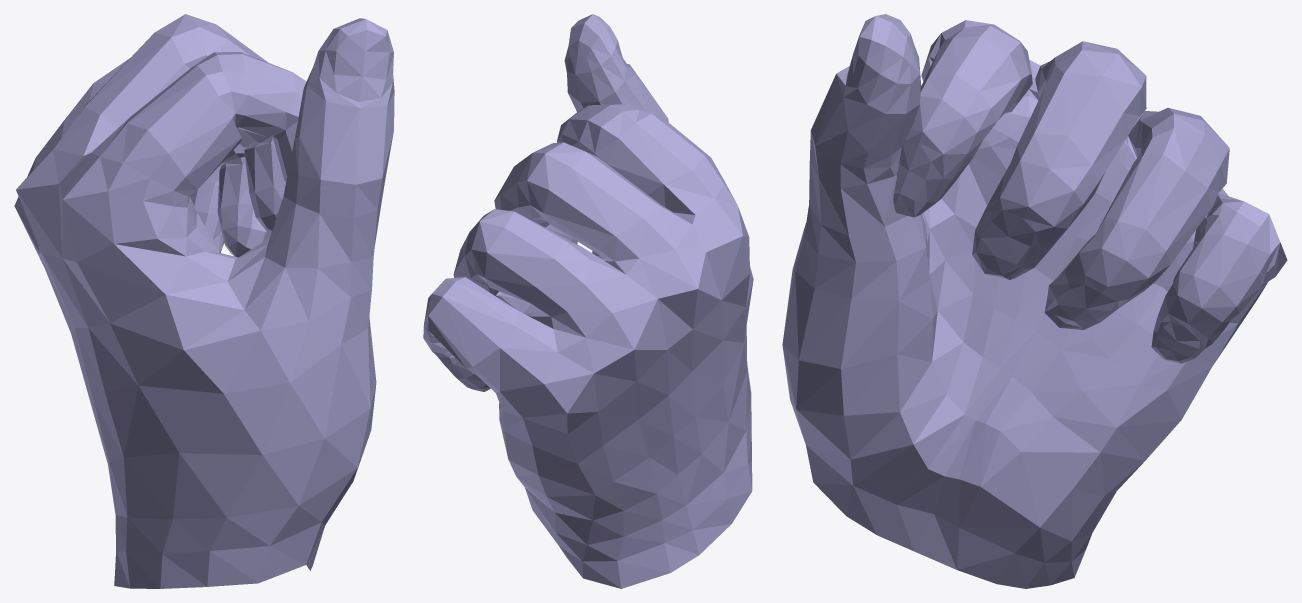
File: frame_0056_source_000056_hand.glb
The picture shows the model from 3 angles, left to right: view 1: azimuth 30°, elevation 25°; view 2: azimuth 150°, elevation 25°; view 3: azimuth 270°, elevation 25°; orthographic projection. The views are drawn at different scales.
Parts seen in each view (by area): view 1: world; view 2: world; view 3: world.
Part boxes in pixels (box(x1,y1,x2,y2)): world: box(14, 14, 394, 588); world: box(423, 14, 753, 588); world: box(782, 14, 1287, 588).
Size of the model in its own units: 0.0621 by 0.1252 by 0.0947.
